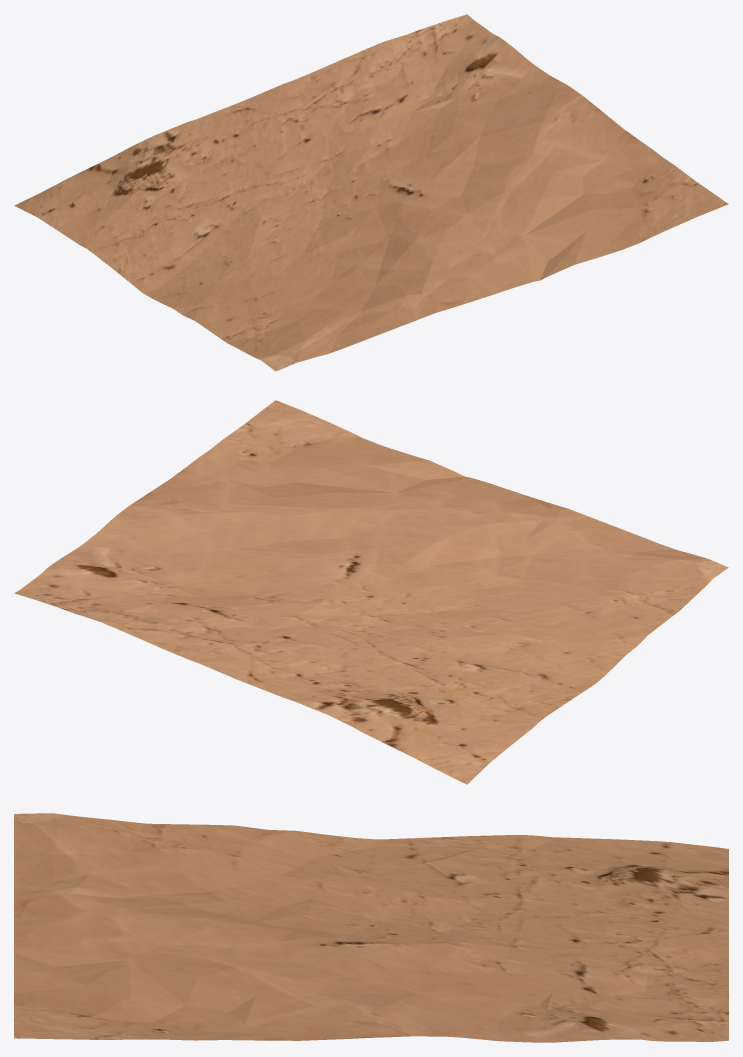
3 renders of one model, top to bottom at view 1: azimuth 30°, elevation 25°; view 2: azimuth 150°, elevation 25°; view 3: azimuth 270°, elevation 25°, orthographic. The views are drawn at different scales.
Size of the model in its own units: 1.04 by 0.1854 by 1.04.
3 materials, 3 textured.
